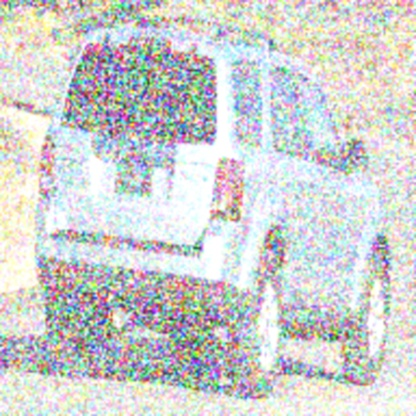Vehicle: (33, 12, 398, 402)
